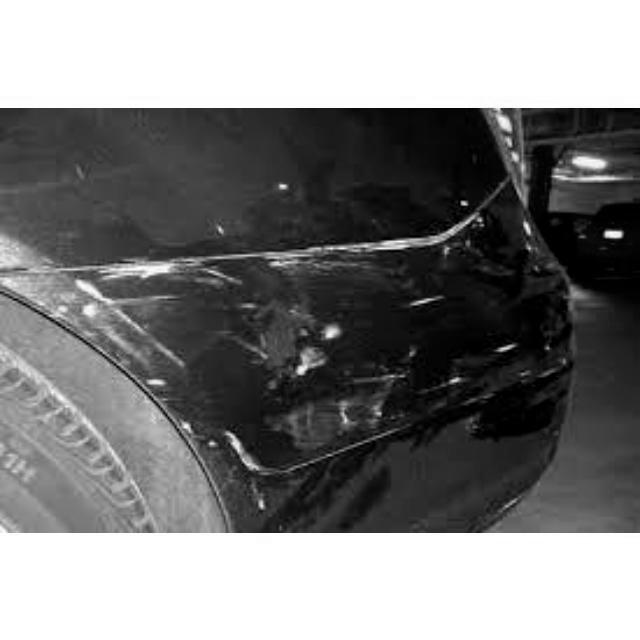rear-bumper-dent: (0, 182, 588, 531)
